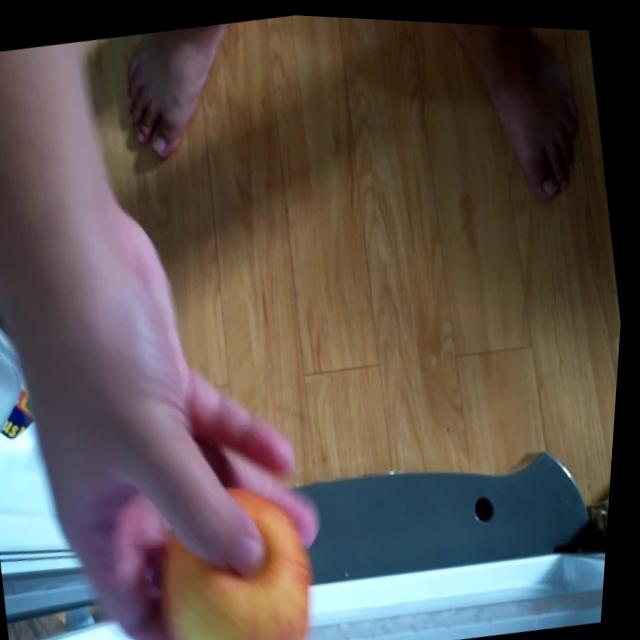apple: (149, 473, 335, 640)
